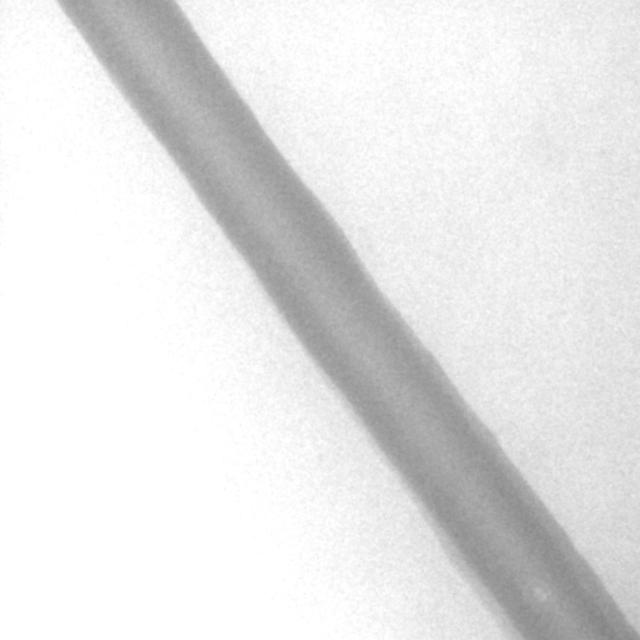air-hole: (528, 577, 550, 601)
